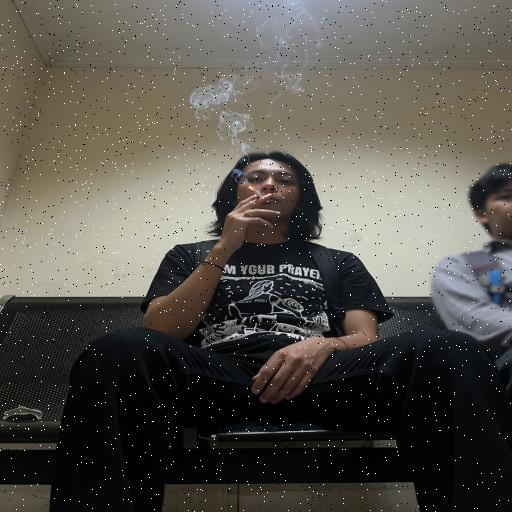pegang rokok: (202, 174, 308, 261)
